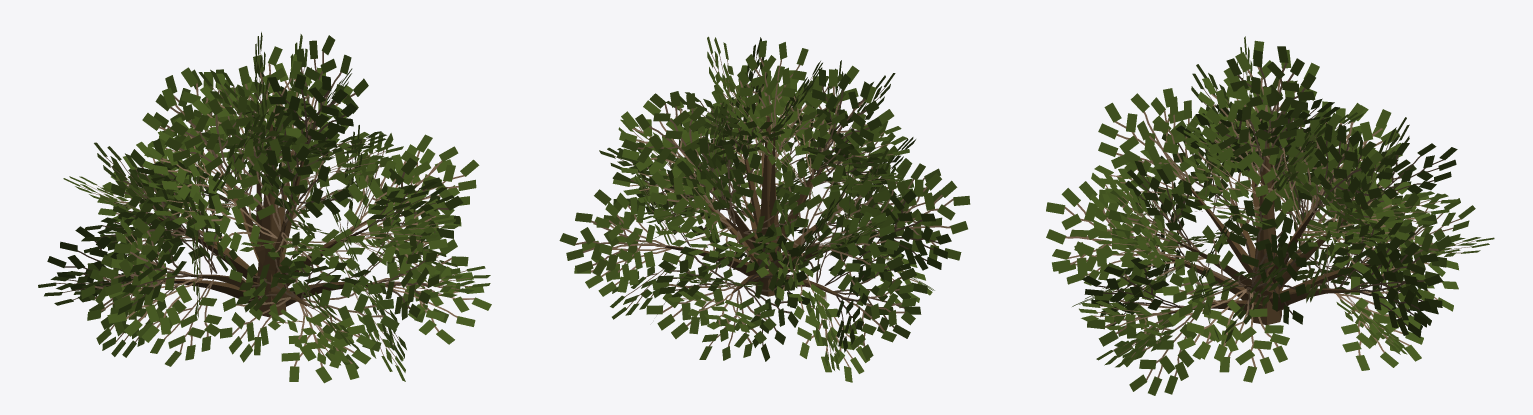
The model's file is SM_bush_01.gltf.
3 views of the same model, side by side, from view 1: azimuth 30°, elevation 25°; view 2: azimuth 150°, elevation 25°; view 3: azimuth 270°, elevation 25° (orthographic). The views are drawn at different scales.
Visible parts, largest first — view 1: SM_bush_01; view 2: SM_bush_01; view 3: SM_bush_01.
Boxes of the visible parts, box(x1,y1,x2,y2) form: SM_bush_01: box(38, 32, 491, 383); SM_bush_01: box(559, 36, 970, 382); SM_bush_01: box(1046, 36, 1494, 395).
Bounding box in the file's own units: 6.14 × 4.85 × 6.41.
Materials: 2 (1 with a texture image).
